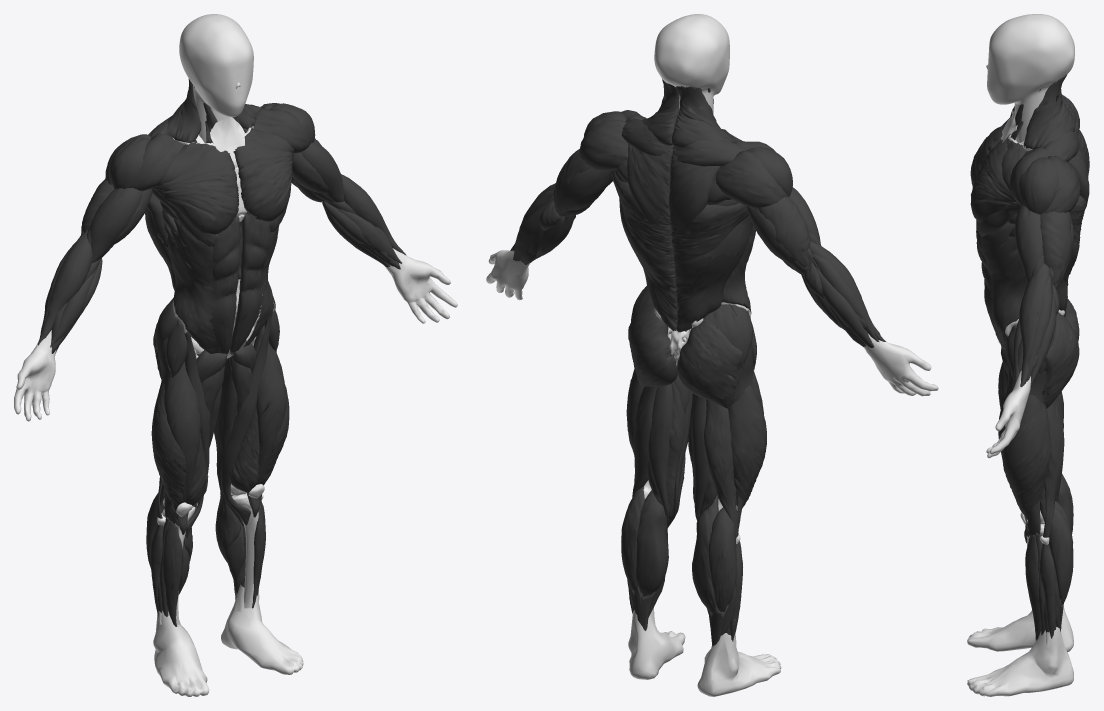
File: corpo-12.glb
The picture shows the model from 3 angles, left to right: view 1: azimuth 30°, elevation 25°; view 2: azimuth 150°, elevation 25°; view 3: azimuth 270°, elevation 25°; orthographic projection.
Parts seen in each view (by area): view 1: pele, deco, peito_medial, cabeca, quad_reto_femoral, obliquos, adutores, antebraco_flexores, abdomen_supra, biceps_longa, antebraco_braquiorradial, ombro_frontal (+16 smaller); view 2: pele, panturrilha_gastro, gluteo_maximo, dorsal_inferior, isquio_semitendineo, dorsal_superior, trapezio_inferior, cabeca, antebraco_extensores, ombro_posterior, isquio_biceps_femoral, quad_vasto_lateral (+12 smaller); view 3: pele, cabeca, quad_vasto_lateral, deco, obliquos, peito_medial, gluteo_maximo, panturrilha_gastro, trapezio_superior, isquio_biceps_femoral, triceps_lateral, antebraco_braquiorradial (+21 smaller).
Part boxes in pixels (x1=…): pele: x1=14, y1=248, x2=457, y2=696; deco: x1=150, y1=85, x2=272, y2=626; peito_medial: x1=151, y1=140, x2=293, y2=234; cabeca: x1=179, y1=14, x2=253, y2=143; quad_reto_femoral: x1=164, y1=324, x2=286, y2=534; obliquos: x1=167, y1=219, x2=279, y2=353; adutores: x1=186, y1=340, x2=256, y2=539; antebraco_flexores: x1=50, y1=200, x2=401, y2=353; abdomen_supra: x1=212, y1=212, x2=271, y2=296; biceps_longa: x1=90, y1=141, x2=344, y2=262; antebraco_braquiorradial: x1=38, y1=174, x2=406, y2=345; ombro_frontal: x1=132, y1=108, x2=309, y2=190; pele: x1=486, y1=250, x2=938, y2=696; panturrilha_gastro: x1=621, y1=485, x2=736, y2=612; gluteo_maximo: x1=628, y1=305, x2=742, y2=408; dorsal_inferior: x1=623, y1=228, x2=745, y2=332; isquio_semitendineo: x1=647, y1=381, x2=716, y2=523; dorsal_superior: x1=612, y1=170, x2=753, y2=259; trapezio_inferior: x1=627, y1=144, x2=720, y2=232; cabeca: x1=654, y1=14, x2=729, y2=112; antebraco_extensores: x1=513, y1=190, x2=879, y2=347; ombro_posterior: x1=579, y1=119, x2=787, y2=209; isquio_biceps_femoral: x1=632, y1=386, x2=738, y2=538; quad_vasto_lateral: x1=626, y1=369, x2=766, y2=507; pele: x1=967, y1=370, x2=1073, y2=696; cabeca: x1=987, y1=14, x2=1074, y2=142; quad_vasto_lateral: x1=1002, y1=394, x2=1051, y2=536; deco: x1=1005, y1=89, x2=1063, y2=640; obliquos: x1=980, y1=222, x2=1027, y2=349; peito_medial: x1=970, y1=124, x2=1017, y2=222; gluteo_maximo: x1=1042, y1=299, x2=1079, y2=408; panturrilha_gastro: x1=1049, y1=474, x2=1073, y2=604; trapezio_superior: x1=1023, y1=74, x2=1075, y2=149; isquio_biceps_femoral: x1=1040, y1=392, x2=1064, y2=538; triceps_lateral: x1=1040, y1=211, x2=1072, y2=285; antebraco_braquiorradial: x1=1019, y1=263, x2=1050, y2=387.
Size of the model in its own units: 1.19 by 1.66 by 0.2829.
1 material, 1 textured.
